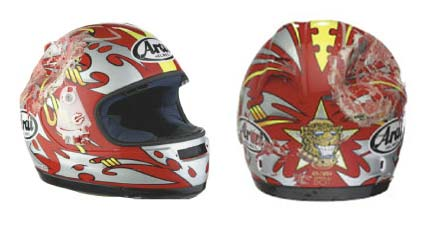helmet: (14, 28, 211, 195), (246, 35, 405, 195)
